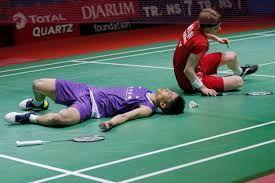Fall-Detected: (166, 3, 261, 98)
